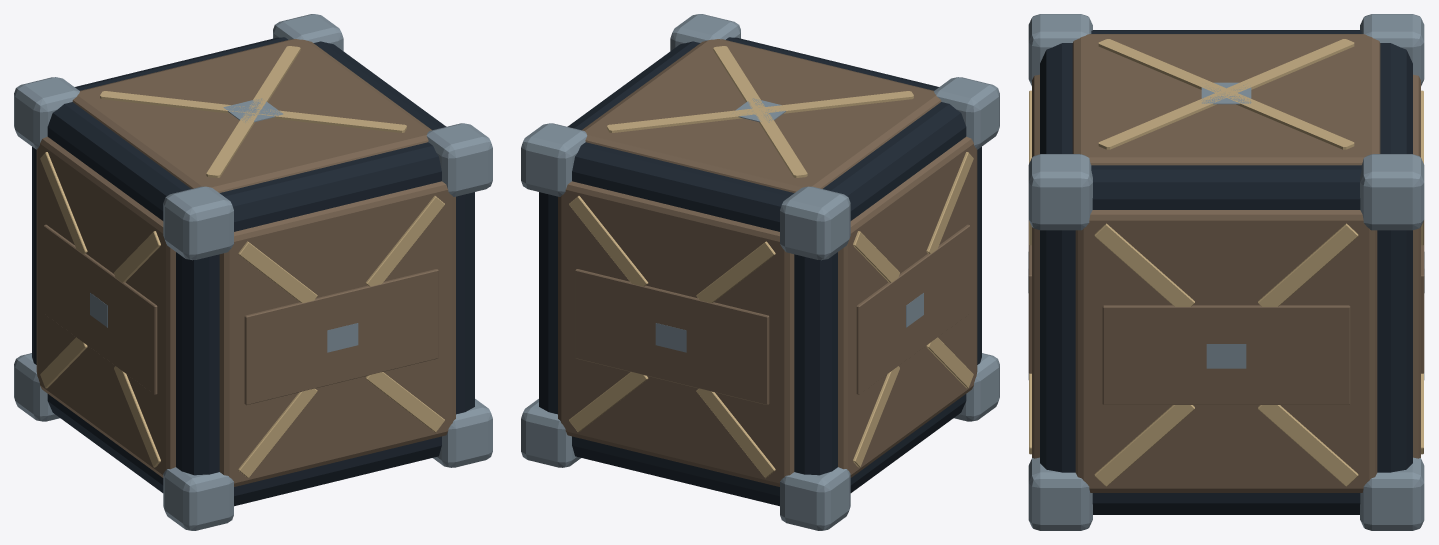
The model's file is CargoCrate.fbx.
3 views of the same model, side by side, from view 1: azimuth 30°, elevation 25°; view 2: azimuth 150°, elevation 25°; view 3: azimuth 270°, elevation 25° (orthographic). The views are drawn at different scales.
Parts seen in each view (by area): view 1: Shell, CargoBraces; view 2: Shell, CargoBraces; view 3: Shell, CargoBraces.
Part boxes in pixels (bbox=[...]): Shell: bbox=[14, 14, 492, 530]; CargoBraces: bbox=[40, 46, 444, 478]; Shell: bbox=[521, 14, 999, 530]; CargoBraces: bbox=[569, 46, 973, 478]; Shell: bbox=[1028, 14, 1424, 530]; CargoBraces: bbox=[1028, 39, 1424, 486].
Bounding box in the file's own units: 0.8008 × 0.8 × 0.8008.
